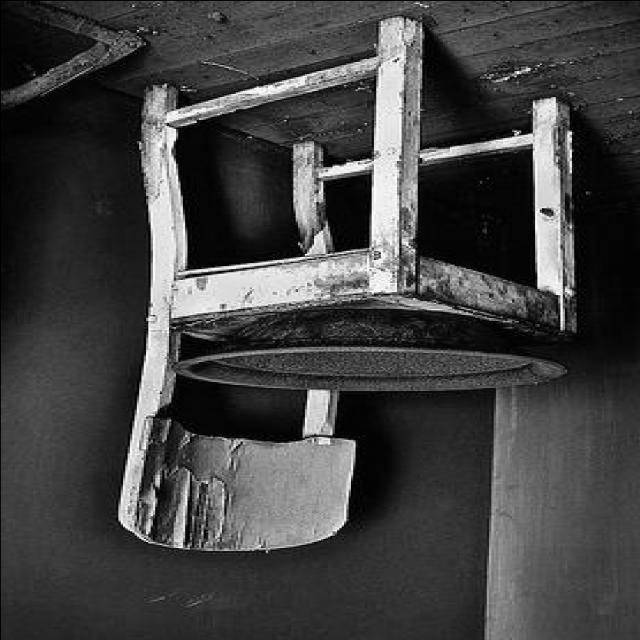chair: (117, 22, 580, 552)
